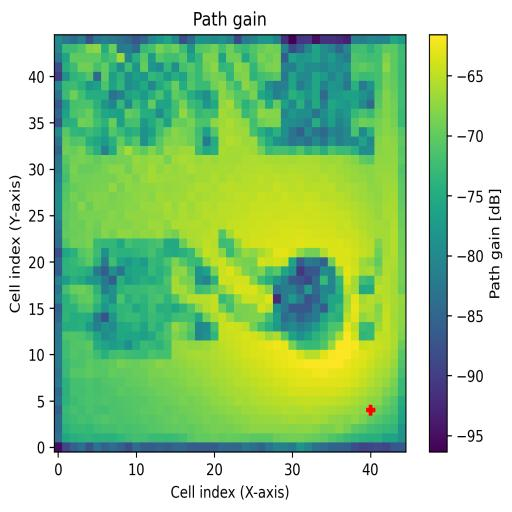Concrete: (281, 48, 375, 156)
Glass: (84, 44, 194, 156)
Metal: (264, 247, 344, 349)
Wood: (93, 238, 171, 359)
